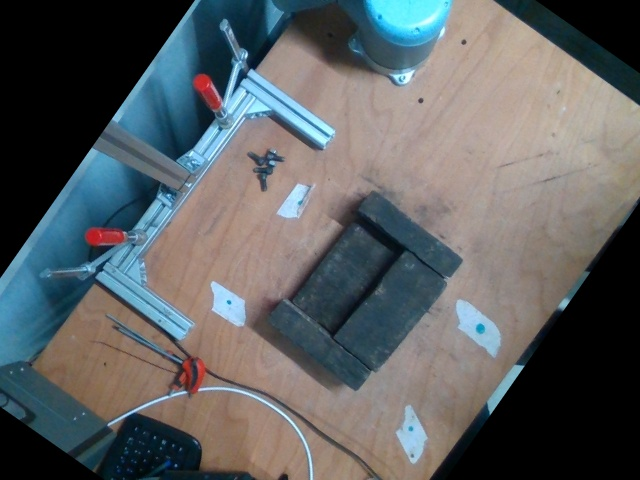brick: (338, 254, 445, 370), (296, 224, 396, 331)
brick-side: (270, 301, 369, 389), (364, 192, 461, 277)
